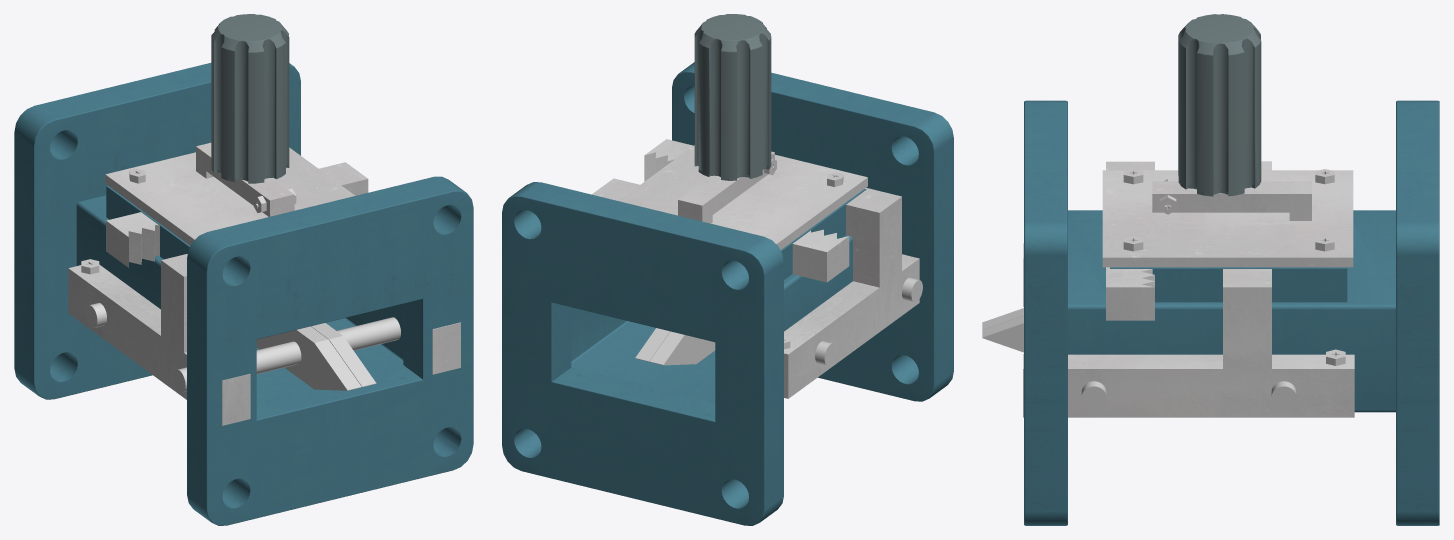
The model's file is 二端口网络调节.fbx.
The picture shows the model from 3 angles, left to right: view 1: azimuth 30°, elevation 25°; view 2: azimuth 150°, elevation 25°; view 3: azimuth 270°, elevation 25°; orthographic projection. The views are drawn at different scales.
Parts seen in each view (by area): view 1: erduankouwangluotiaojie, Rectangle0010, pGear3, NGon031, TwoPortNet zhuti1, Rectangle012; view 2: erduankouwangluotiaojie, Rectangle0010, NGon031, pGear3, TwoPortNet zhuti1, Rectangle012; view 3: erduankouwangluotiaojie, TwoPortNet zhuti1, Rectangle012, NGon031, pGear3, Rectangle0010.
Boxes of the visible parts, bbox=[...] form: erduankouwangluotiaojie: bbox=[14, 63, 473, 525]; Rectangle0010: bbox=[68, 254, 361, 425]; pGear3: bbox=[211, 14, 289, 183]; NGon031: bbox=[105, 142, 355, 245]; TwoPortNet zhuti1: bbox=[76, 185, 404, 401]; Rectangle012: bbox=[106, 162, 460, 387]; erduankouwangluotiaojie: bbox=[502, 62, 953, 525]; Rectangle0010: bbox=[644, 139, 922, 398]; NGon031: bbox=[618, 145, 867, 249]; pGear3: bbox=[694, 14, 771, 180]; TwoPortNet zhuti1: bbox=[571, 189, 866, 402]; Rectangle012: bbox=[592, 178, 849, 361]; erduankouwangluotiaojie: bbox=[1024, 100, 1439, 525]; TwoPortNet zhuti1: bbox=[1068, 210, 1395, 412]; Rectangle012: bbox=[982, 161, 1354, 417]; NGon031: bbox=[1102, 169, 1353, 267]; pGear3: bbox=[1178, 14, 1261, 196]; Rectangle0010: bbox=[982, 161, 1154, 329].
Bounding box in the file's own units: 3.99 × 5.76 × 5.48.
